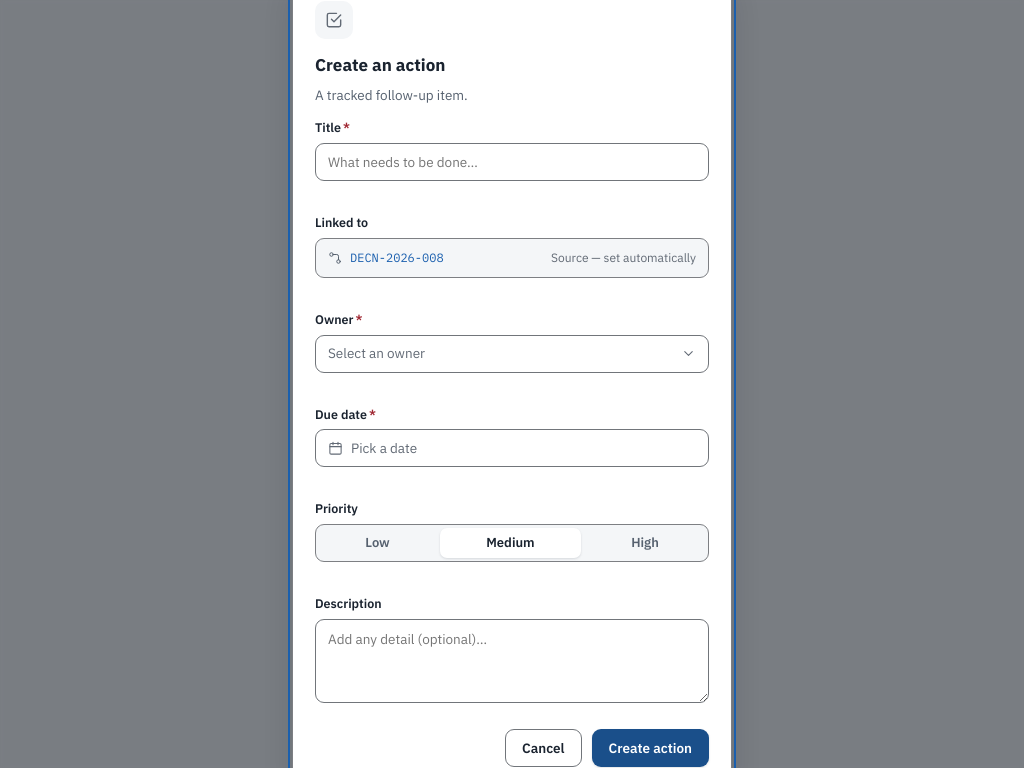
CreateActionDialog › shows the locked source and only active members as owners
Expected: the text "DECN-2026-008" is shown, [350,249,444,267]
Click the button "Select an owner": point(377, 353) [315,334,709,372]
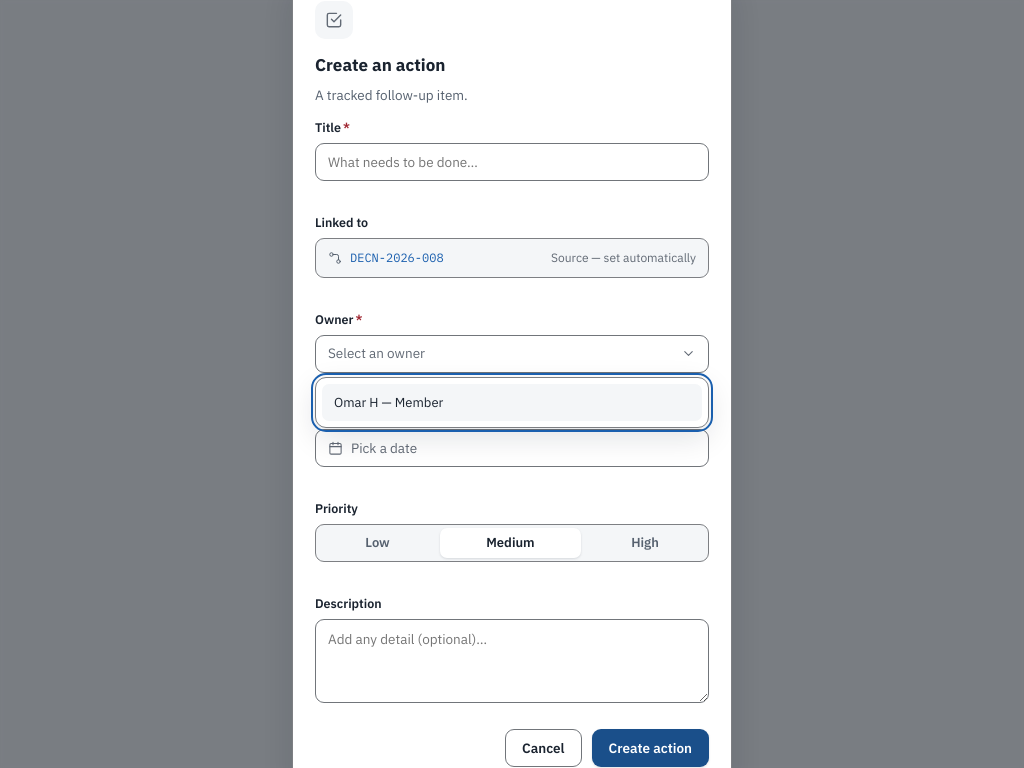
Now the option "Omar H — Member" is shown, box [322,384,702,421]
